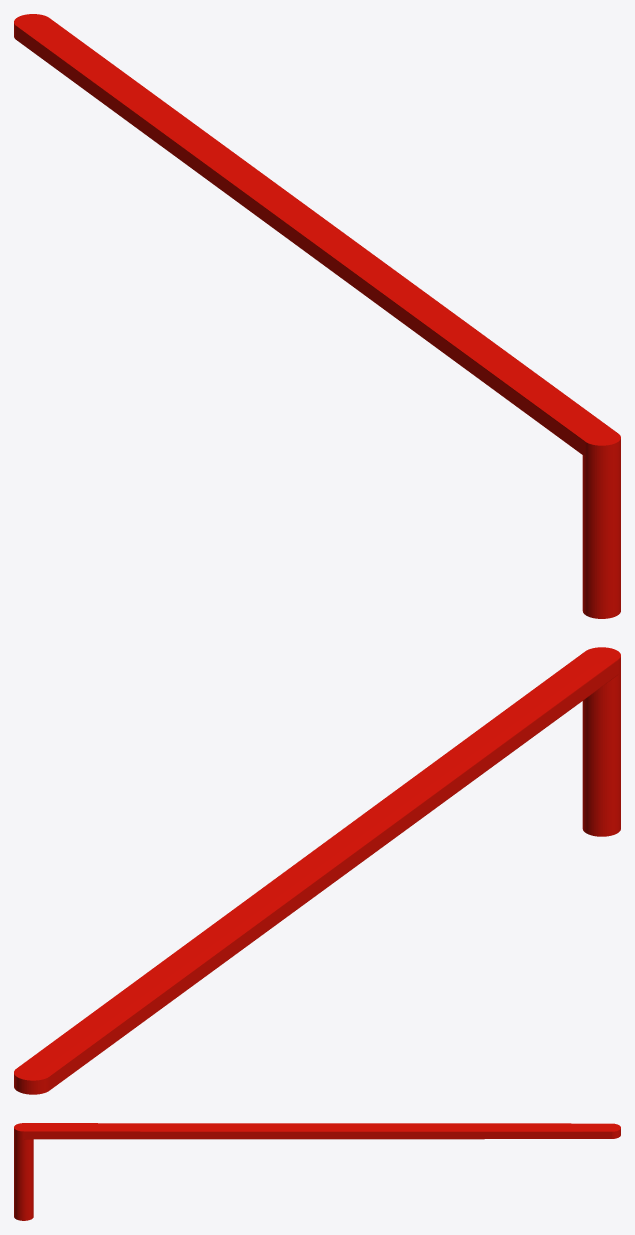
The model's file is SecondHand.glb.
The picture shows the model from 3 angles, top to bottom: view 1: azimuth 30°, elevation 25°; view 2: azimuth 150°, elevation 25°; view 3: azimuth 270°, elevation 25°; orthographic projection. The views are drawn at different scales.
Parts seen in each view (by area): view 1: Second; view 2: Second; view 3: Second.
Boxes of the visible parts, x1,y1,x2,y2 form: Second: (14,14,620,618); Second: (14,647,620,1094); Second: (14,1123,620,1220).
Size of the model in its own units: 0.01 by 0.05 by 0.3075.
